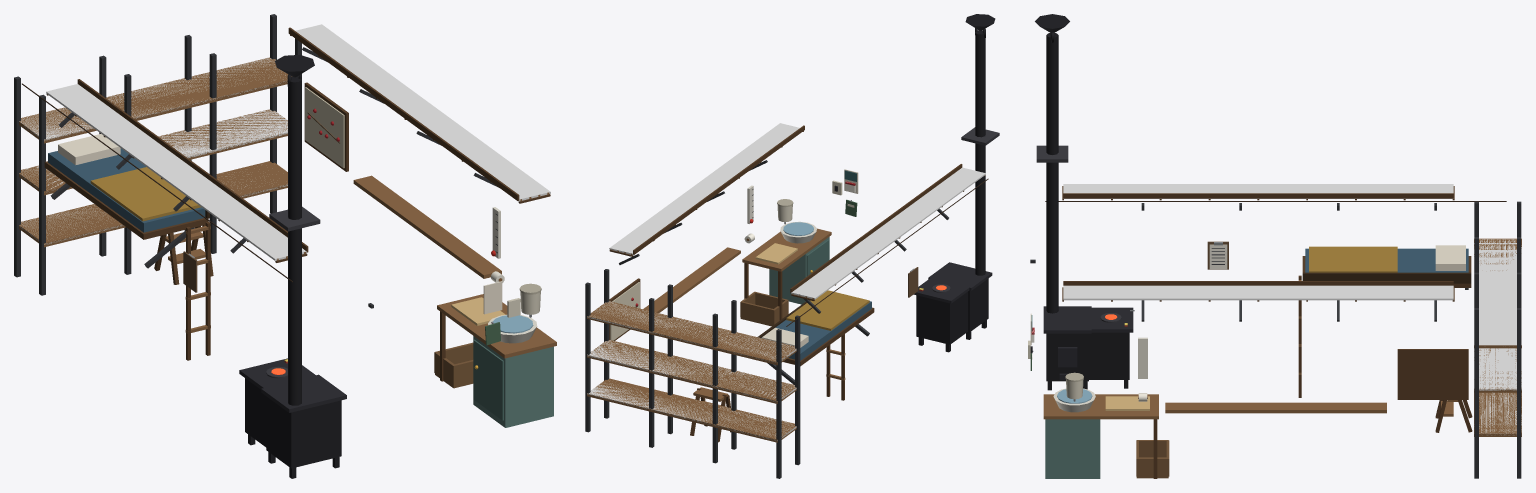
The model's file is furniture.glb.
The picture shows the model from 3 angles, left to right: view 1: azimuth 30°, elevation 25°; view 2: azimuth 150°, elevation 25°; view 3: azimuth 270°, elevation 25°; orthographic projection. The views are drawn at different scales.
Parts seen in each view (by area): view 1: #8a6440, #1e1e22 metal 0.4 rough 0.7, #34363a metal 0.5 rough 0.5, surface_rack_1, surface_rack_2, #5a3e26, #5f7f7a, #5a3e26_noshadow, surface_shelf_2, #a8843c_noshadow, #3f5f73_noshadow, #2a2a30 metal 0.4 rough 0.6 (+9 smaller); view 2: #8a6440, #34363a metal 0.5 rough 0.5, #1e1e22 metal 0.4 rough 0.7, surface_rack_1, surface_rack_2, surface_shelf_2, #5a3e26_noshadow, #5a3e26, surface_shelf_1, #a8843c_noshadow, #2a2a30 metal 0.4 rough 0.6, surface_shelf_3 (+7 smaller); view 3: #8a6440, #1e1e22 metal 0.4 rough 0.7, surface_rack_2, #5a3e26, #5a3e26_noshadow, surface_rack_1, surface_shelf_3, #5f7f7a, #34363a metal 0.5 rough 0.5, #a8843c_noshadow, #2a2a30 metal 0.4 rough 0.6, surface_shelf_2 (+7 smaller).
Part boxes in pixels (box(x1,y1,x2,y2)): #8a6440: box(19, 57, 556, 358); #1e1e22 metal 0.4 rough 0.7: box(245, 55, 341, 468); #34363a metal 0.5 rough 0.5: box(14, 14, 498, 295); surface_rack_1: box(46, 84, 307, 260); surface_rack_2: box(295, 24, 550, 201); #5a3e26: box(44, 82, 445, 381); #5f7f7a: box(473, 336, 553, 427); #5a3e26_noshadow: box(46, 27, 550, 262); surface_shelf_2: box(19, 109, 287, 192); #a8843c_noshadow: box(90, 167, 201, 221); #3f5f73_noshadow: box(48, 148, 205, 232); #2a2a30 metal 0.4 rough 0.6: box(239, 358, 346, 412); #8a6440: box(587, 228, 845, 442); #34363a metal 0.5 rough 0.5: box(585, 160, 948, 478); #1e1e22 metal 0.4 rough 0.7: box(916, 14, 995, 344); surface_rack_1: box(791, 167, 985, 299); surface_rack_2: box(609, 123, 799, 255); surface_shelf_2: box(587, 340, 796, 401); #5a3e26_noshadow: box(609, 125, 985, 300); #5a3e26: box(609, 263, 874, 442); surface_shelf_1: box(587, 381, 796, 440); #a8843c_noshadow: box(786, 290, 869, 330); #2a2a30 metal 0.4 rough 0.6: box(914, 262, 992, 303); surface_shelf_3: box(587, 301, 796, 362); #8a6440: box(1043, 238, 1521, 436); #1e1e22 metal 0.4 rough 0.7: box(1035, 14, 1129, 381); surface_rack_2: box(1063, 285, 1453, 300); #5a3e26: box(1153, 256, 1472, 478); #5a3e26_noshadow: box(1062, 186, 1454, 301); surface_rack_1: box(1063, 184, 1453, 198); surface_shelf_3: box(1474, 239, 1521, 345); #5f7f7a: box(1045, 419, 1100, 478); #34363a metal 0.5 rough 0.5: box(1141, 201, 1521, 478); #a8843c_noshadow: box(1309, 246, 1397, 272); #2a2a30 metal 0.4 rough 0.6: box(1043, 306, 1133, 333); surface_shelf_2: box(1474, 348, 1521, 390).
Bounding box in the file's own units: 3.23 × 4.38 × 5.57.
